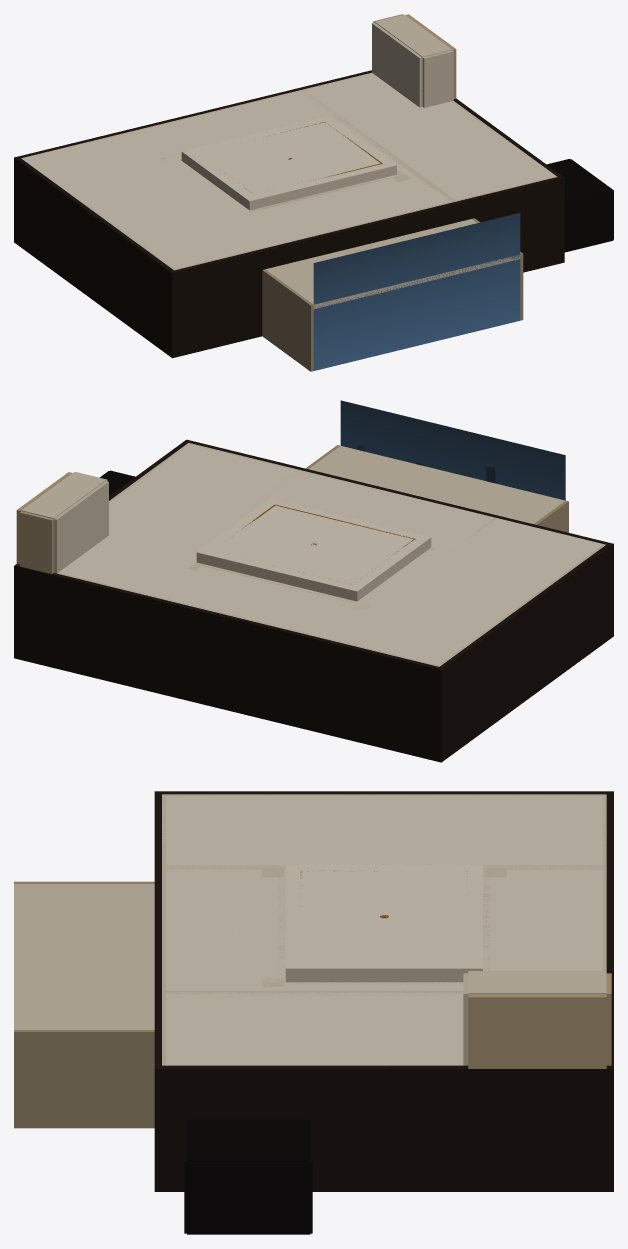
File: int_hotel_lobby.glb
3 renders of one model, top to bottom at view 1: azimuth 30°, elevation 25°; view 2: azimuth 150°, elevation 25°; view 3: azimuth 270°, elevation 25°, orthographic. The views are drawn at different scales.
Visible parts, largest first — view 1: ROOM; view 2: ROOM; view 3: ROOM.
Part boxes in pixels (box(x1,y1,x2,y2)): ROOM: box(14, 14, 613, 371); ROOM: box(14, 400, 613, 762); ROOM: box(14, 791, 613, 1234).
Size of the model in its own units: 30.7 by 8.93 by 24.3.
